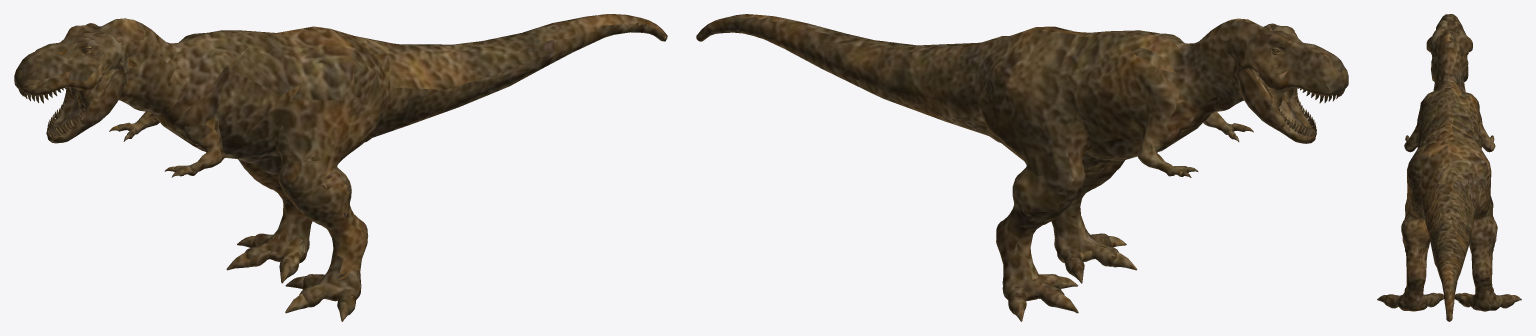
Rendered from dino4.obj.
The picture shows the model from 3 angles, left to right: view 1: azimuth 30°, elevation 25°; view 2: azimuth 150°, elevation 25°; view 3: azimuth 270°, elevation 25°; orthographic projection. The views are drawn at different scales.
Parts seen in each view (by area): view 1: META; view 2: META; view 3: META.
Boxes of the visible parts, box(x1,y1,x2,y2) form: META: box(14, 14, 667, 321); META: box(696, 14, 1348, 321); META: box(1377, 14, 1521, 321).
Size of the model in its own units: 1.64 by 0.7461 by 0.4604.
Materials: 1 (1 with a texture image).
